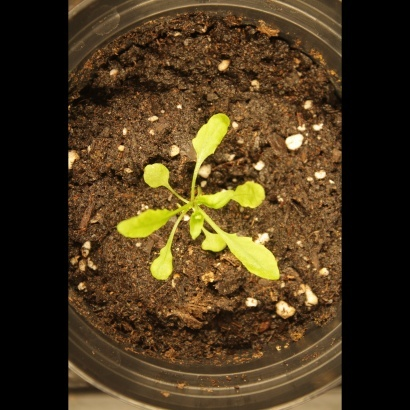leaf: (225, 229, 290, 287), (184, 100, 233, 166), (112, 203, 176, 240), (148, 239, 185, 287), (233, 176, 271, 215), (134, 149, 170, 190), (196, 185, 232, 215), (199, 227, 231, 259), (184, 207, 209, 245)
